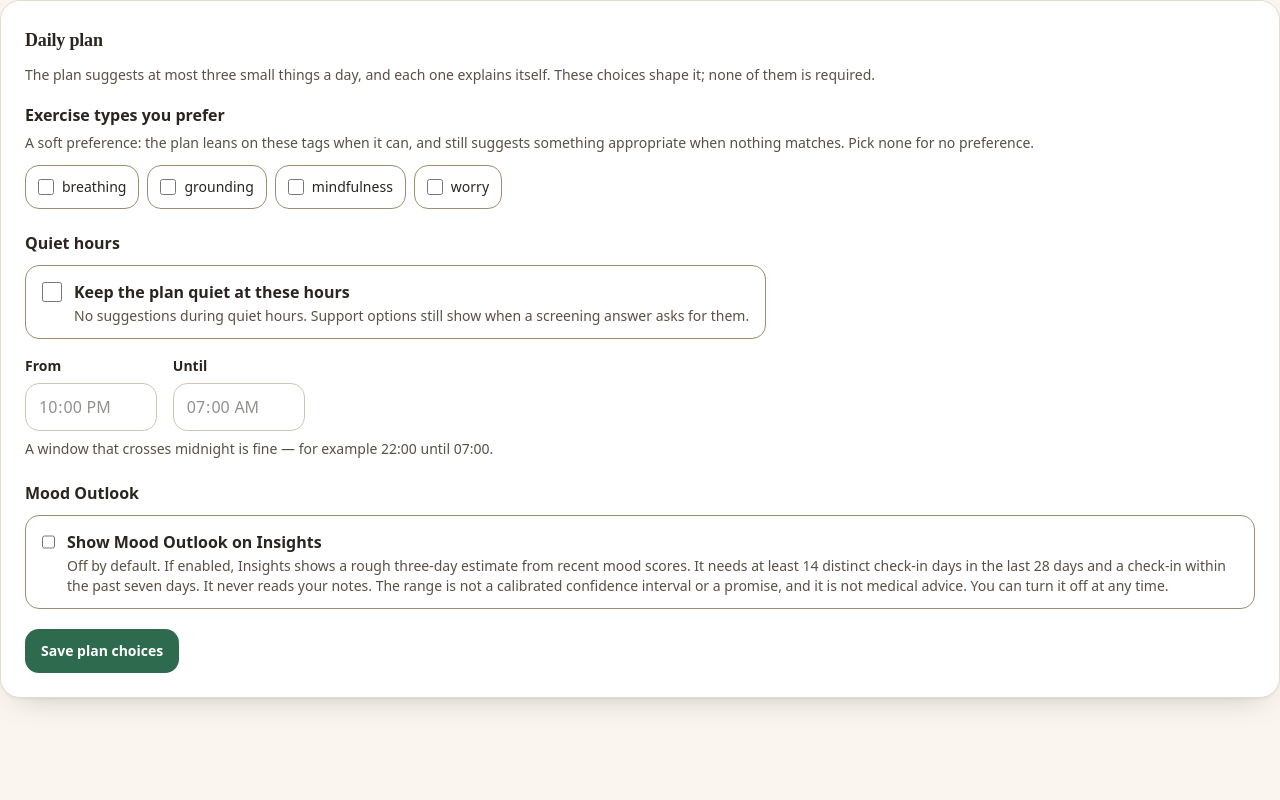
it: PlanSettingsSection › reports a failed save without losing the draft
The width and height of the screenshot is (1280, 800).
Click the checkbox with test id "plan-tag-worry".
click(435, 186)  # box [427, 178, 443, 194]
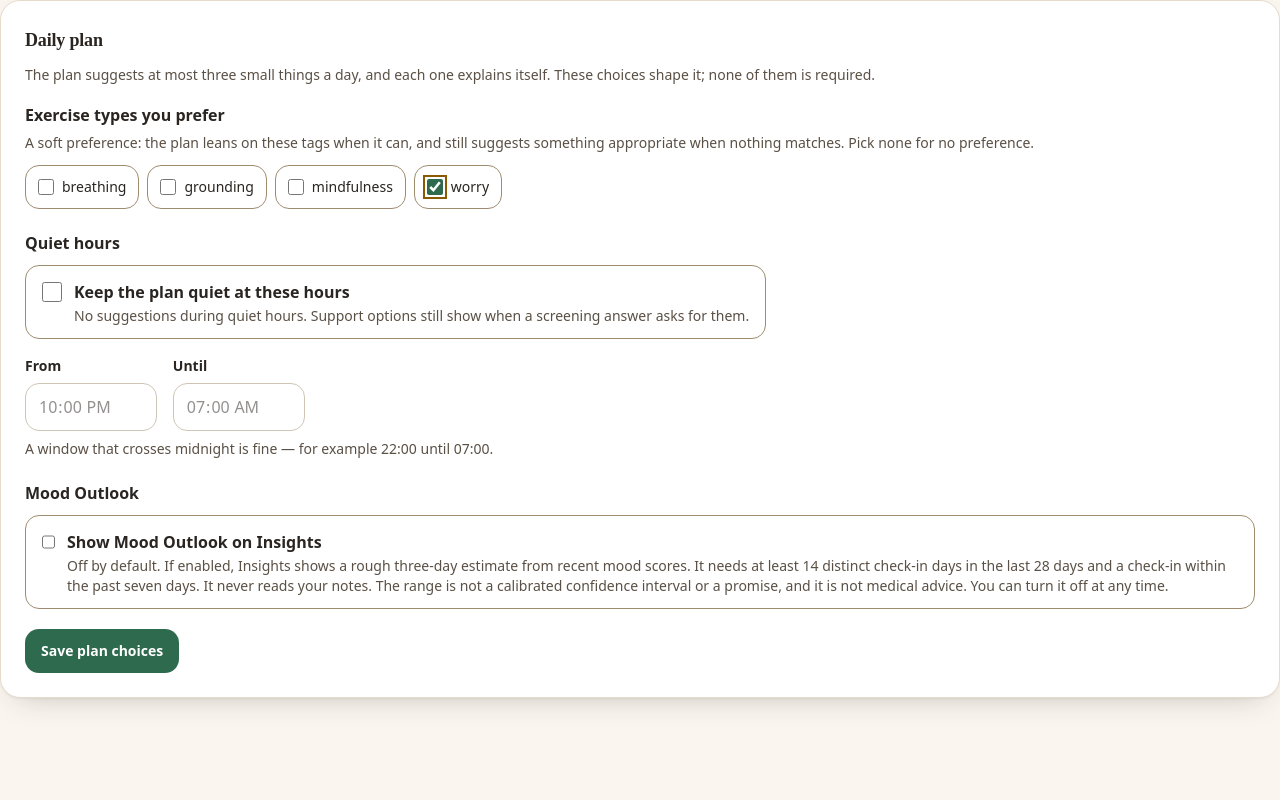
Click the button "Save plan choices".
click(102, 650)  # box [25, 628, 179, 672]
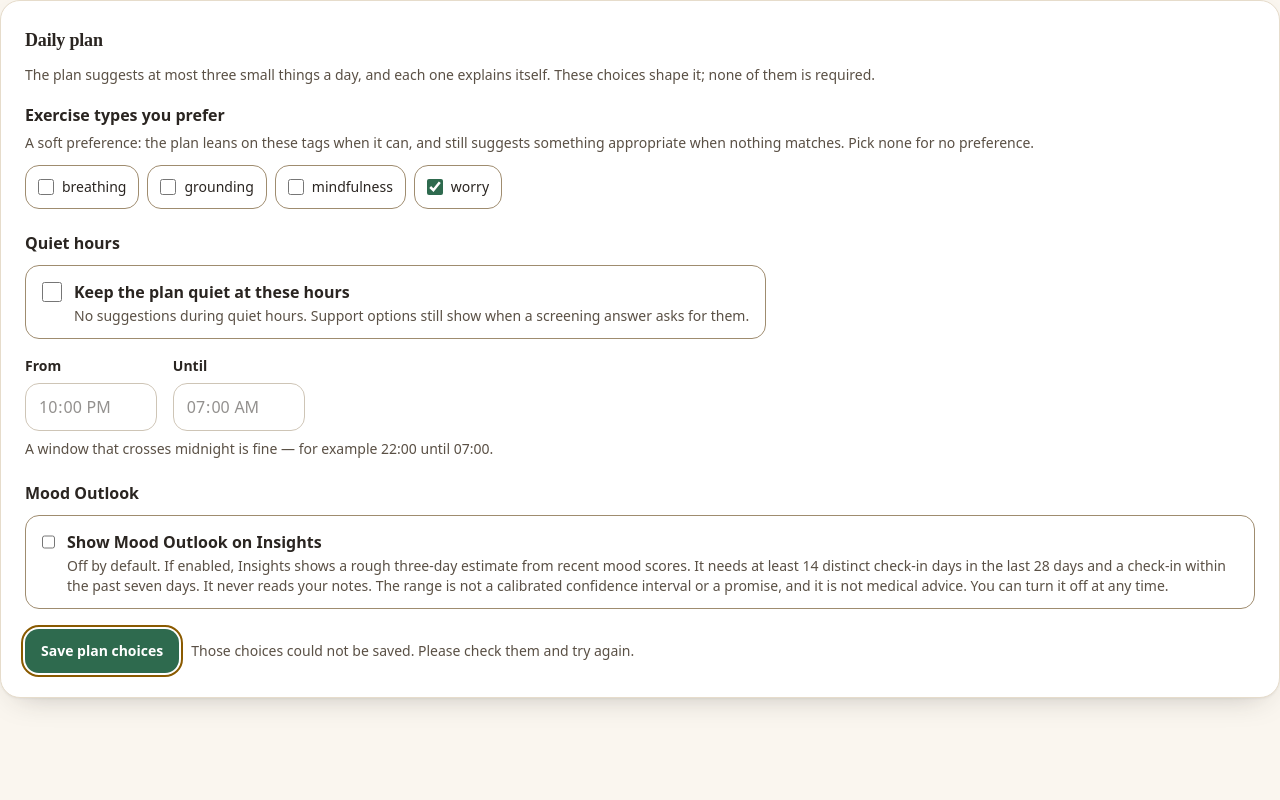
Expected: the checkbox with test id "plan-tag-worry" is checked, [427, 178, 443, 194]
Expected: the message shows "could not be saved", [191, 640, 634, 660]
